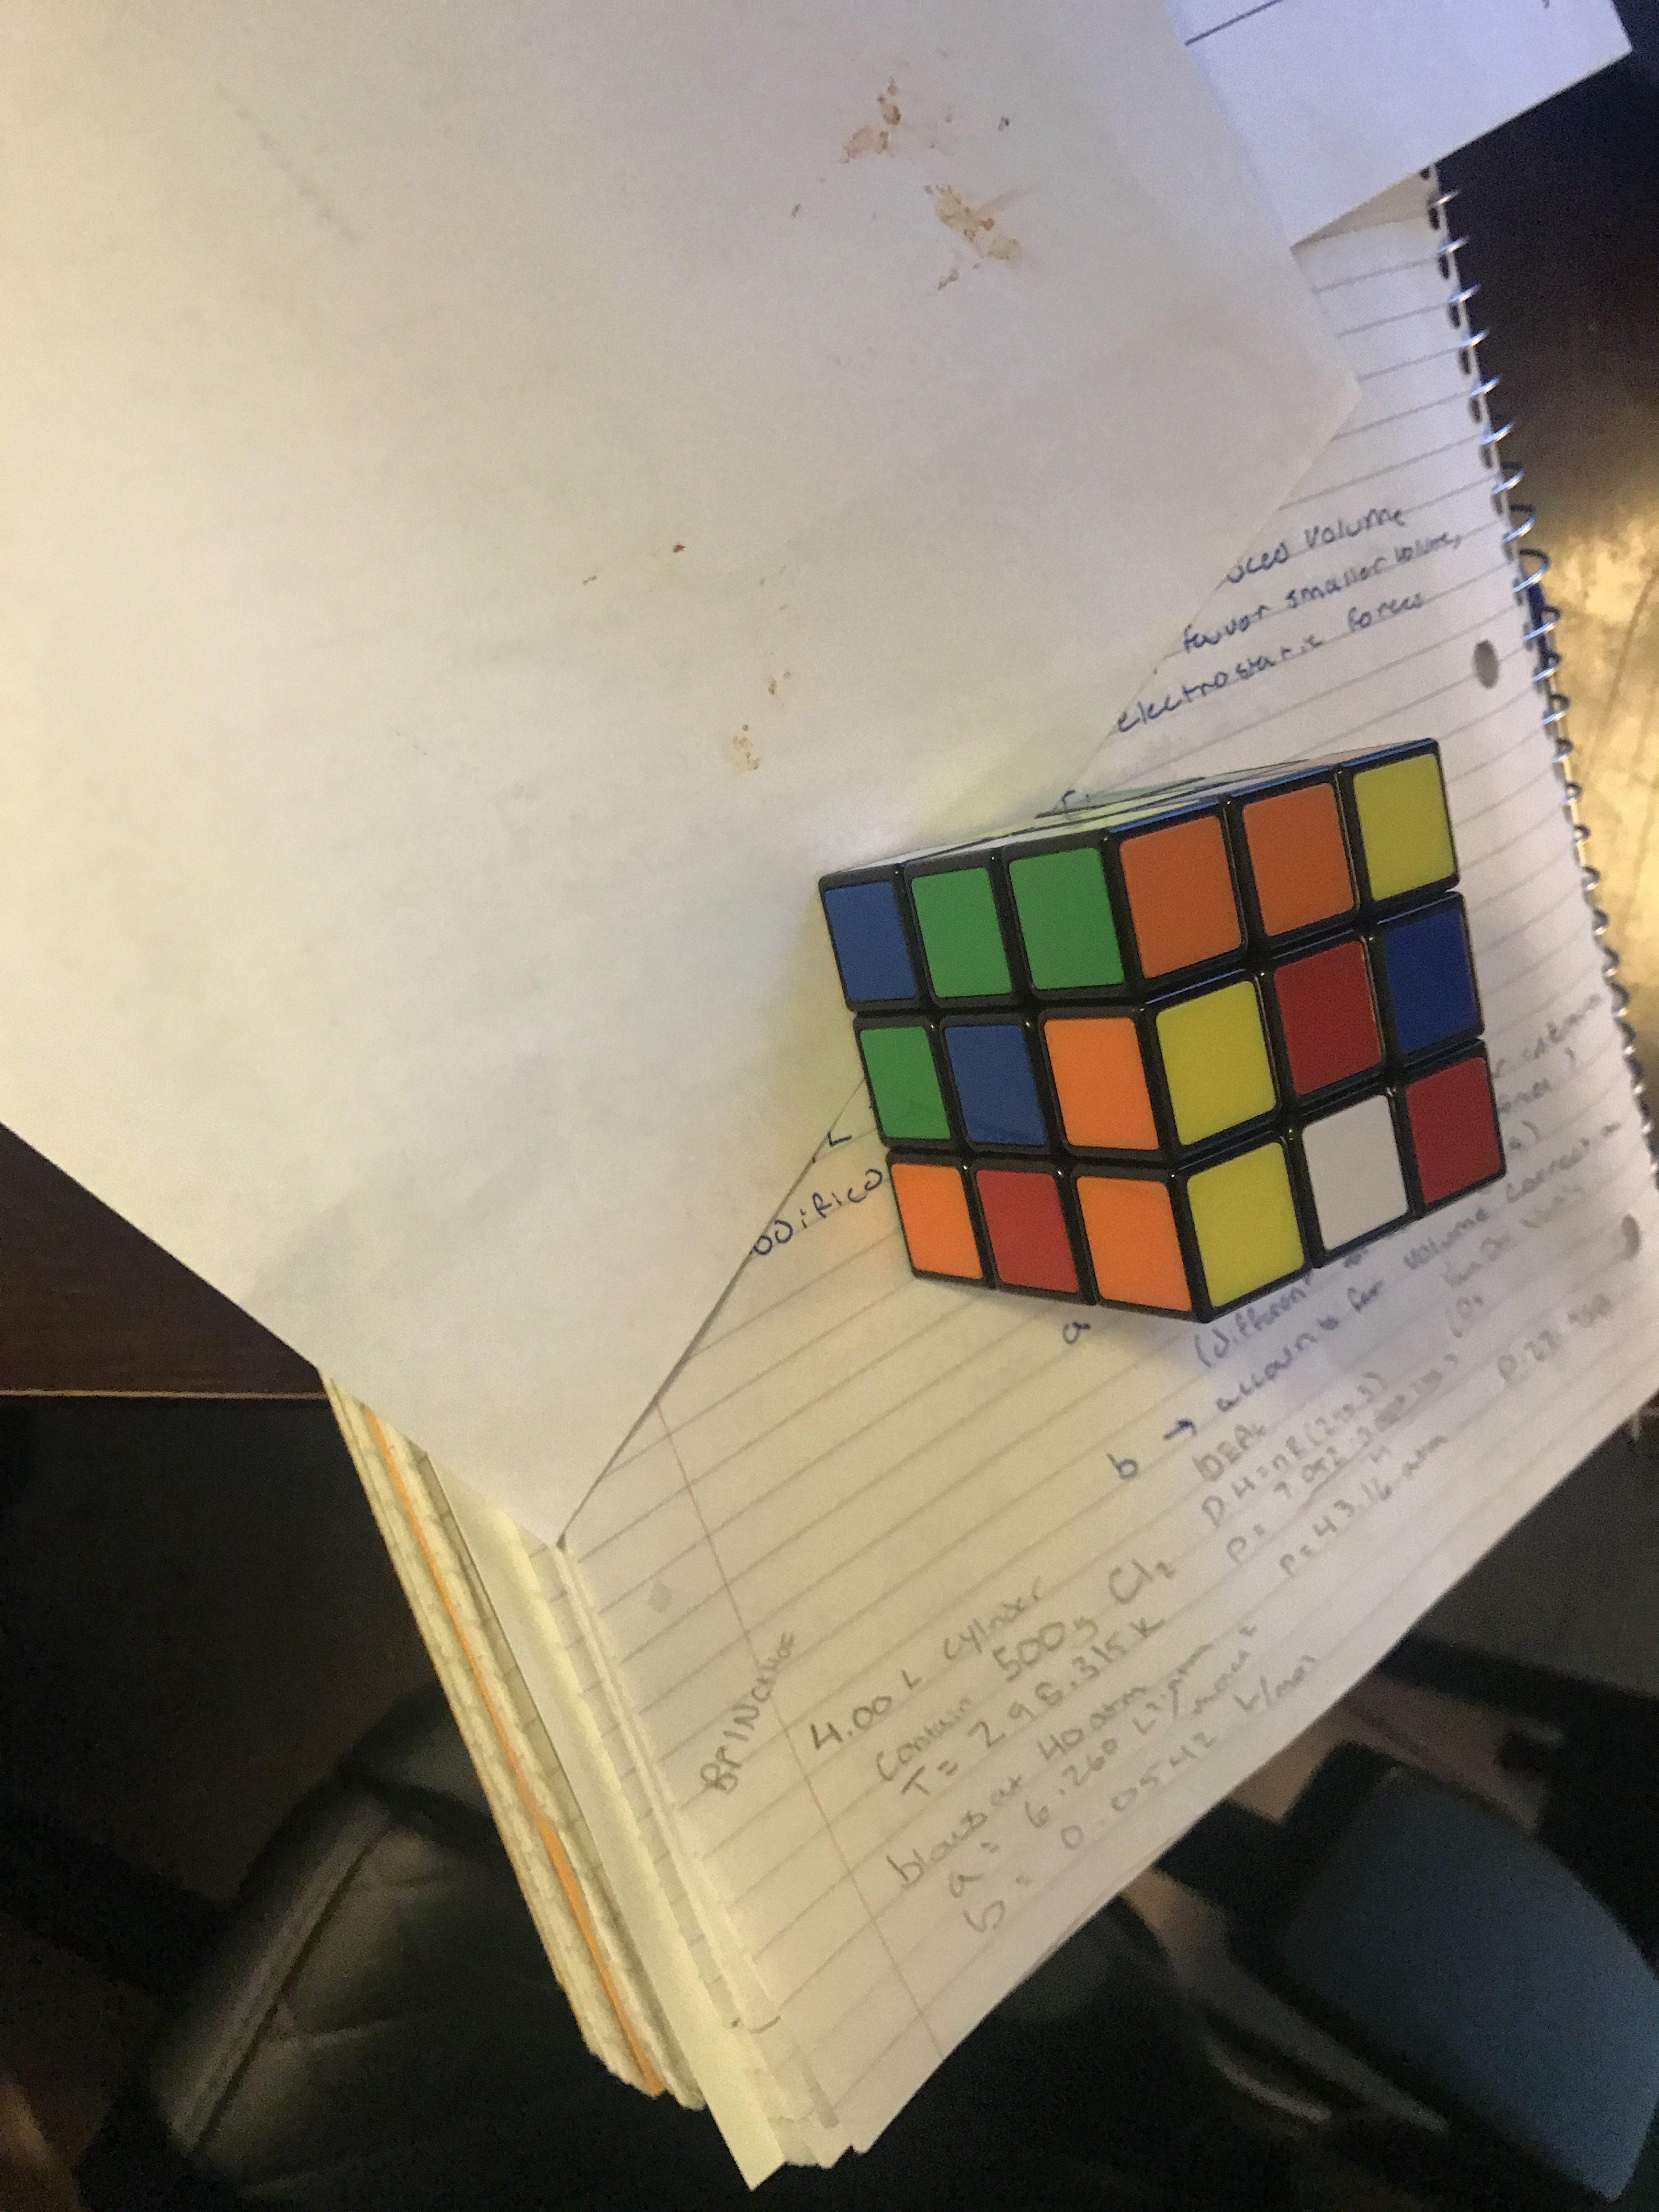rubiks: (812, 738, 1509, 1334)
